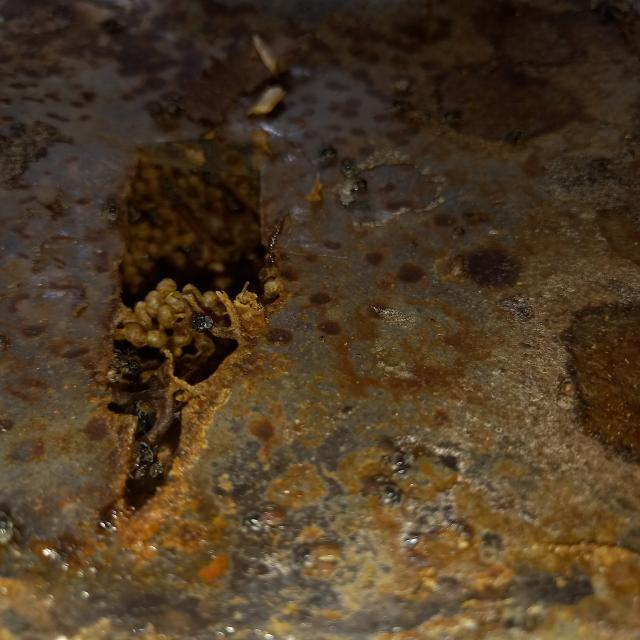honeybee: (187, 315, 210, 340)
